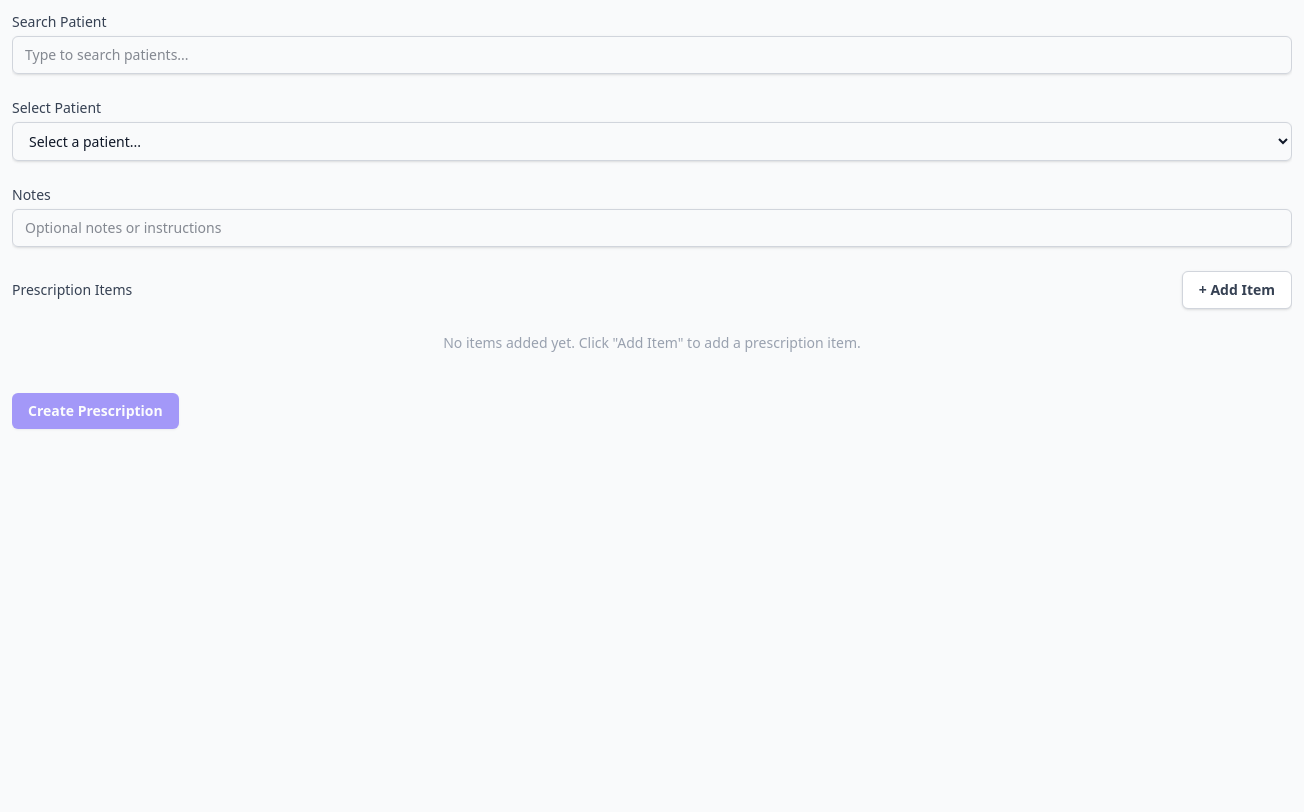
PrescriptionForm › adds a new item when clicking Add Item button
Check: the element that starts with "Prescription Items" is shown, box [12,271,1292,369]
Click the button "+ Add Item": (1237, 290) [1182,271,1292,309]
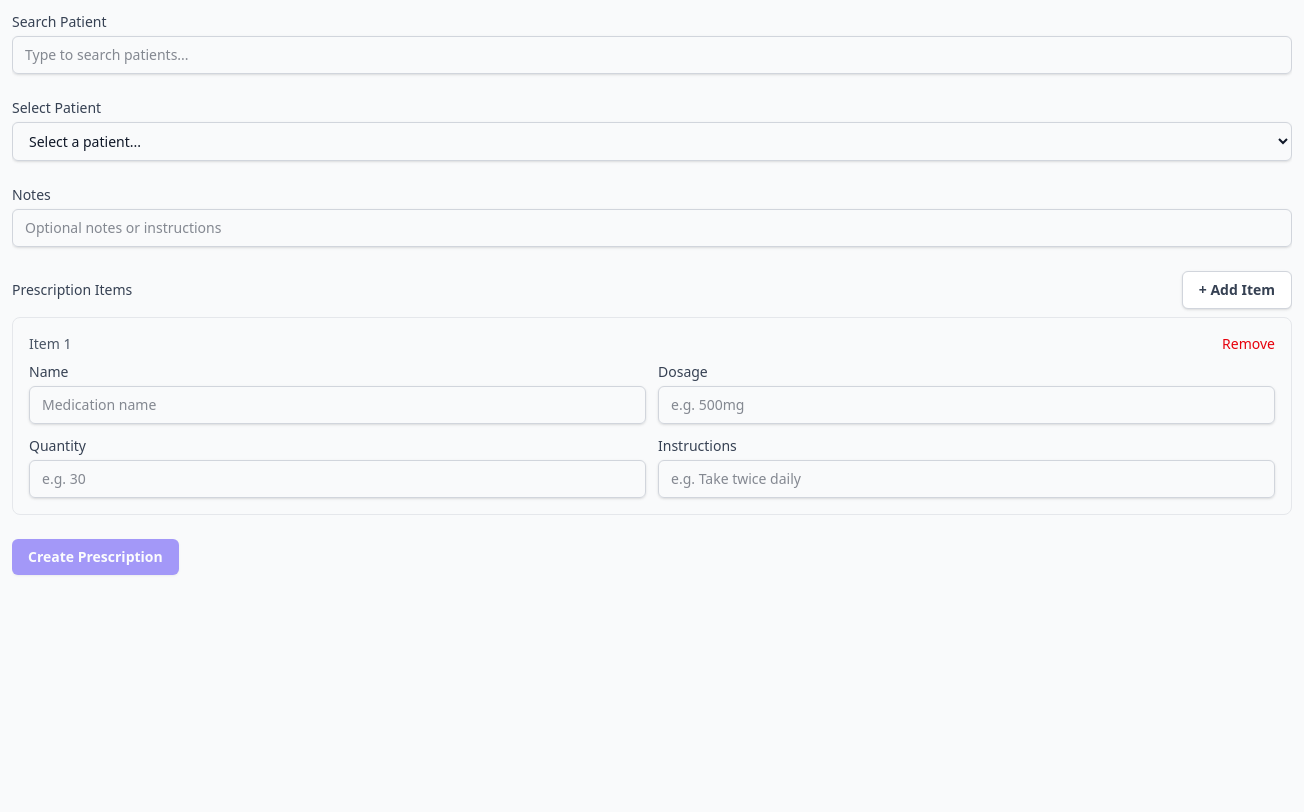
Check: the text "Item 1" is shown, box [29,334,71,354]
